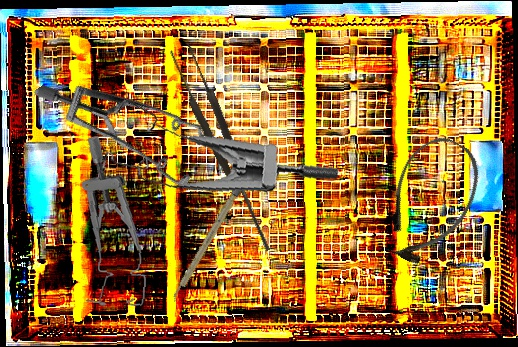Cannula: (365, 126, 494, 275)
Scalpel Handle: (169, 181, 245, 303)
Speculum: (33, 20, 230, 227), (89, 68, 342, 218), (71, 135, 159, 311)
Tissue Forceps: (167, 41, 280, 257)
